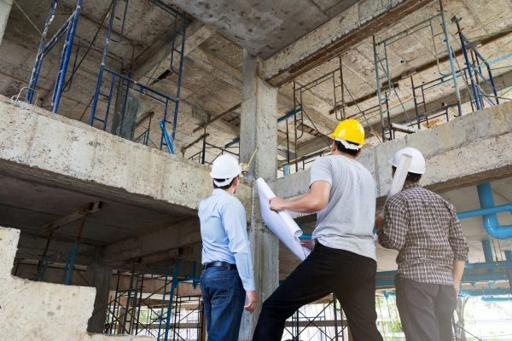hard hat: (328, 118, 367, 147), (211, 152, 243, 180)
